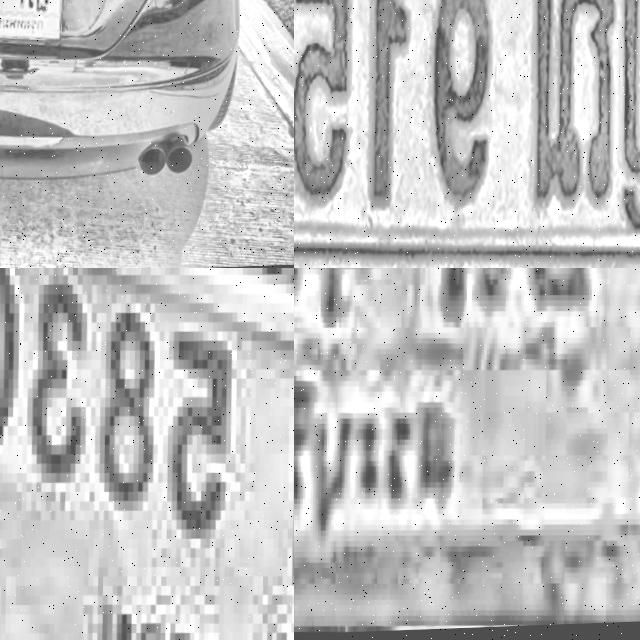license-plate: (294, 268, 640, 640), (0, 268, 294, 640), (294, 0, 640, 268), (0, 0, 63, 46)
